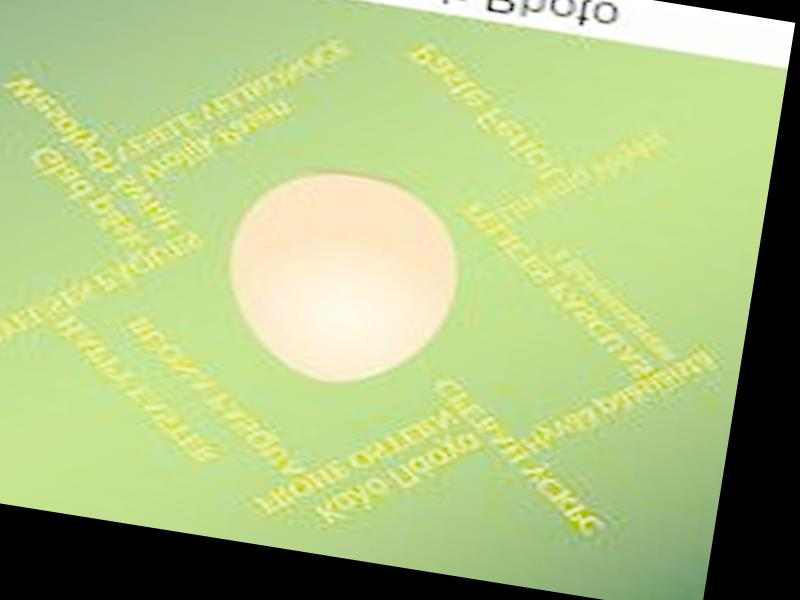Eggs: (214, 159, 466, 397)
